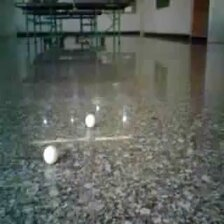w: (43, 146, 58, 163), (84, 113, 96, 127)
